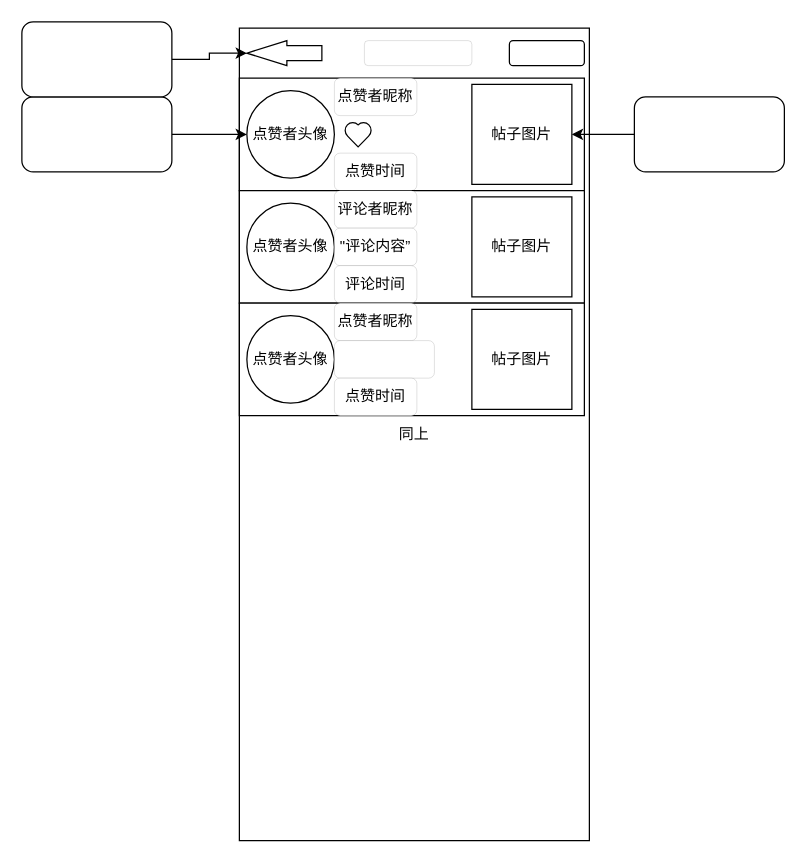
This 806x863 diagram has some shape labels left out. The centre of each missing label's shape, as x and y in pixels:
"收起下拉框" goes at (x=96, y=59).
"消息" goes at (x=417, y=52).
"清空" goes at (x=546, y=52).
"点击跳转帖子界面" goes at (x=708, y=134).
"点击跳转该用户详细信息界面（查看他人）" goes at (x=96, y=134).
"赞了你的评论" goes at (x=384, y=359).
